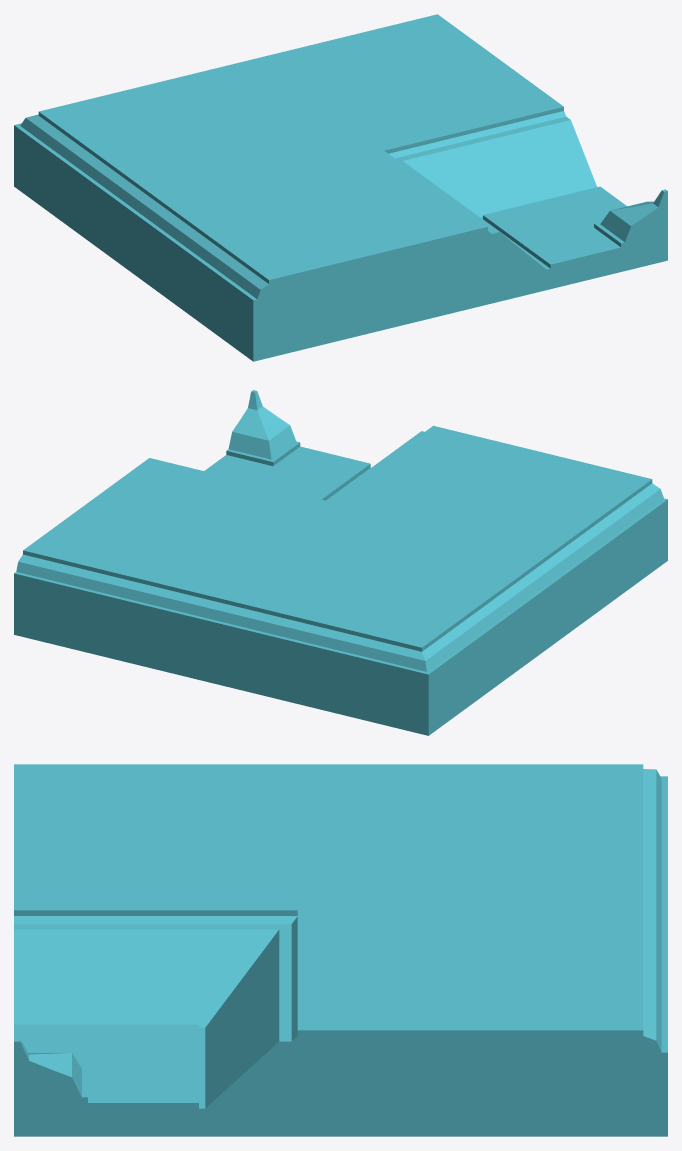
File: classic_full_corner.glb
3 views of the same model, one above another, from view 1: azimuth 30°, elevation 25°; view 2: azimuth 150°, elevation 25°; view 3: azimuth 270°, elevation 25° (orthographic). The views are drawn at different scales.
Parts seen in each view (by area): view 1: VIFS001; view 2: VIFS001; view 3: VIFS001.
Part boxes in pixels (x1,y1,x2,y2): VIFS001: (14,14,667,361); VIFS001: (14,390,667,735); VIFS001: (14,764,667,1136).
Size of the model in its own units: 0.106 by 0.019 by 0.106.
